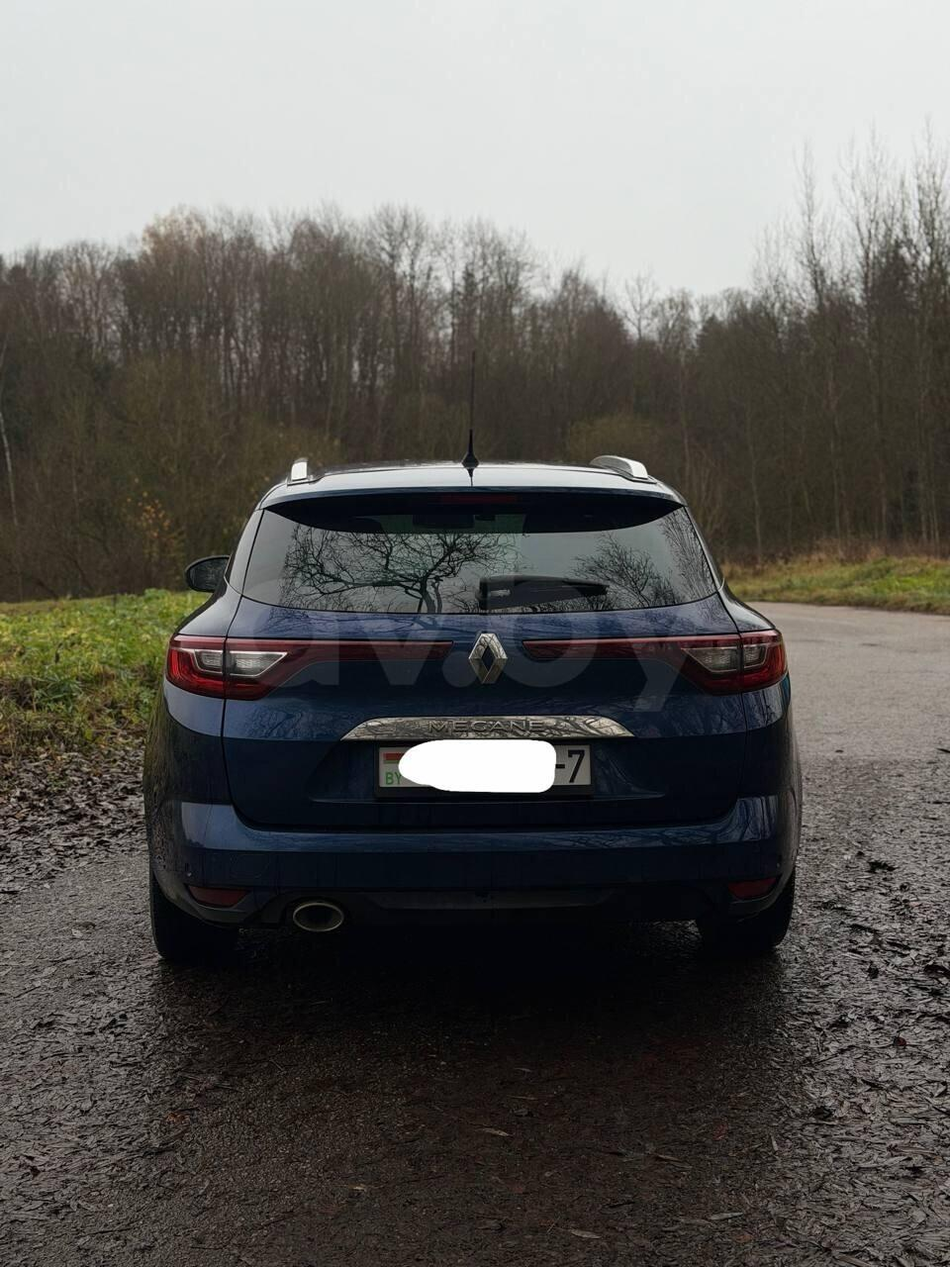Megane_2016-2020: (137, 447, 820, 980)
